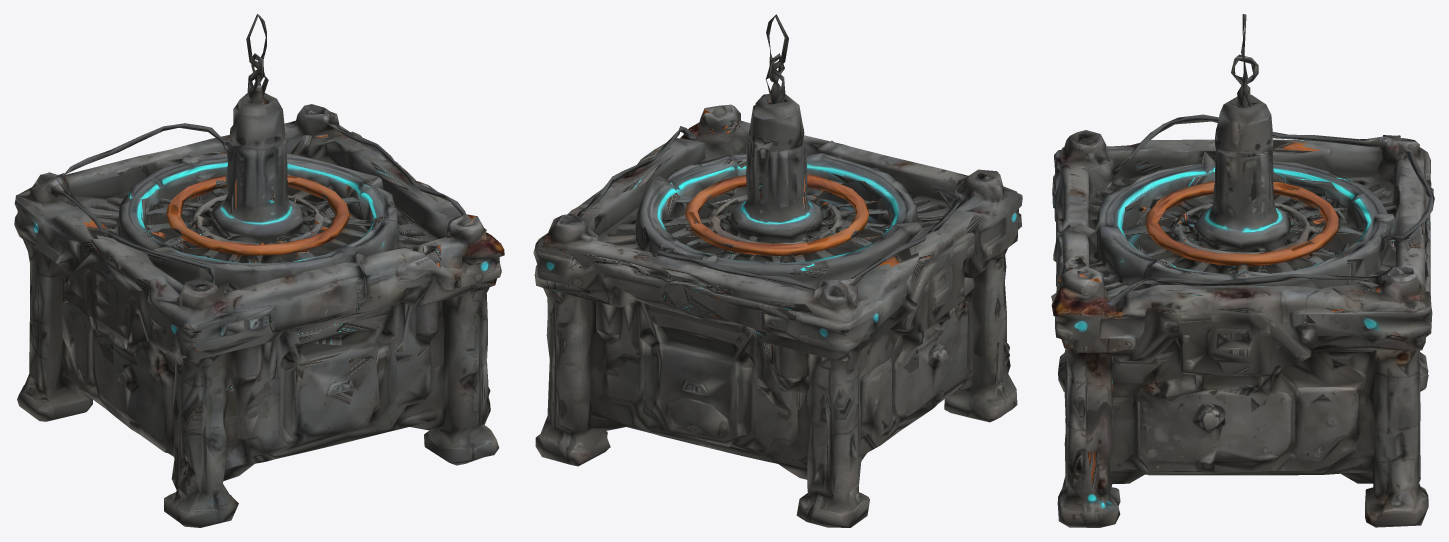
The model's file is arc_trap.glb.
3 views of the same model, side by side, from view 1: azimuth 30°, elevation 25°; view 2: azimuth 150°, elevation 25°; view 3: azimuth 270°, elevation 25° (orthographic). The views are drawn at different scales.
Visible parts, largest first — view 1: tripo_node_21d178fc-9f49-4016-93ff-139daf481d00; view 2: tripo_node_21d178fc-9f49-4016-93ff-139daf481d00; view 3: tripo_node_21d178fc-9f49-4016-93ff-139daf481d00.
Boxes of the visible parts, bbox=[...] form: tripo_node_21d178fc-9f49-4016-93ff-139daf481d00: bbox=[14, 14, 504, 527]; tripo_node_21d178fc-9f49-4016-93ff-139daf481d00: bbox=[533, 14, 1022, 527]; tripo_node_21d178fc-9f49-4016-93ff-139daf481d00: bbox=[1051, 14, 1434, 527].
Bounding box in the file's own units: 0.8521 × 0.9974 × 0.796.
1 material, 1 textured.
